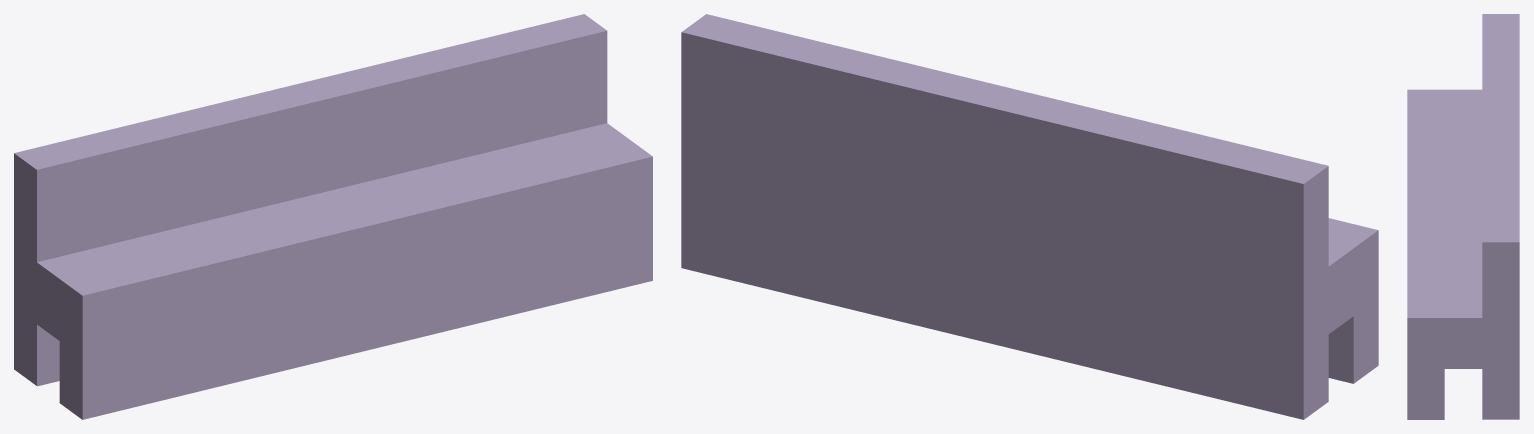
File: bank.fbx
3 renders of one model, left to right at view 1: azimuth 30°, elevation 25°; view 2: azimuth 150°, elevation 25°; view 3: azimuth 270°, elevation 25°, orthographic. The views are drawn at different scales.
Parts seen in each view (by area): view 1: bank; view 2: bank; view 3: bank.
Boxes of the visible parts, x1,y1,x2,y2 form: bank: (14, 14, 652, 419); bank: (681, 14, 1378, 419); bank: (1407, 14, 1519, 419).
Bounding box in the file's own units: 220 × 79.82 × 45.77.
